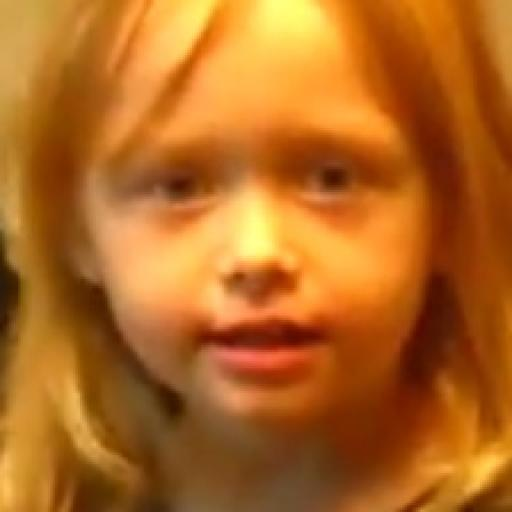Autism: (44, 3, 451, 464)
